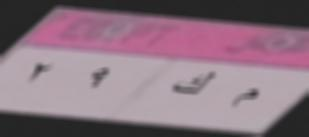2: (27, 57, 54, 85)
9: (88, 63, 111, 91)
kaaf: (171, 65, 214, 105)
meem: (231, 82, 261, 117)
